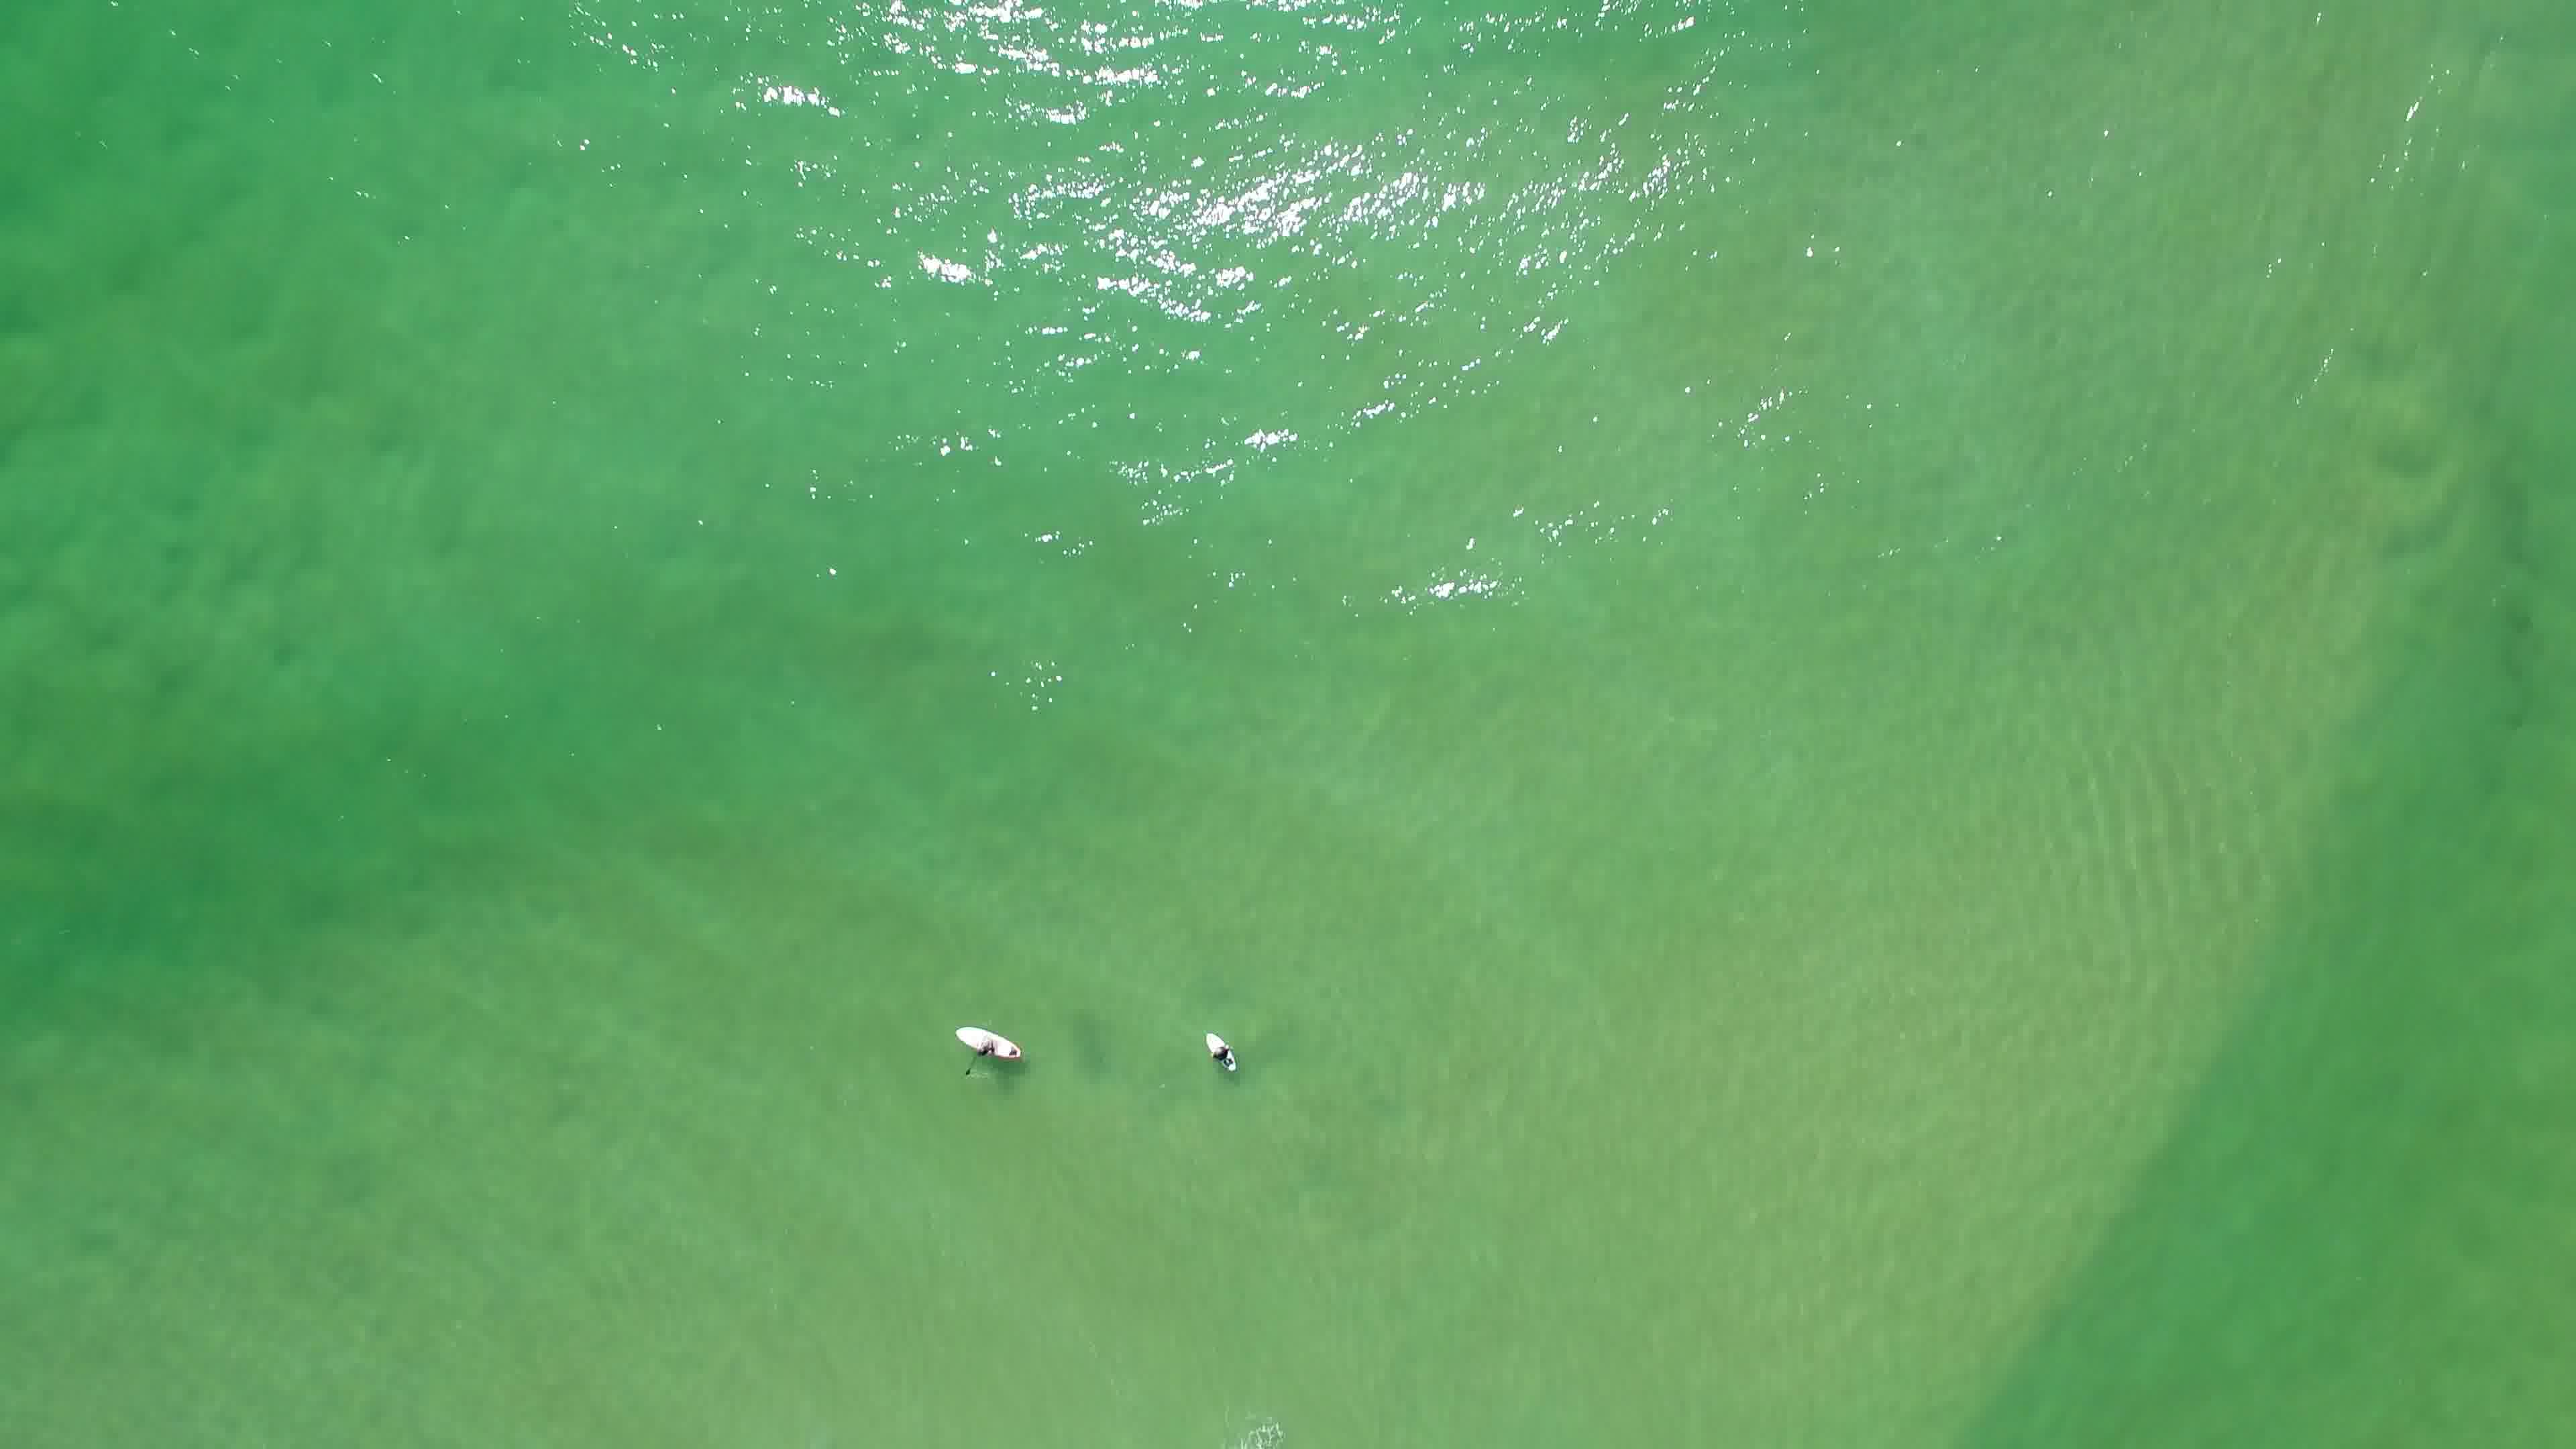surfer: (952, 1016, 1028, 1077), (1196, 1024, 1251, 1079)
